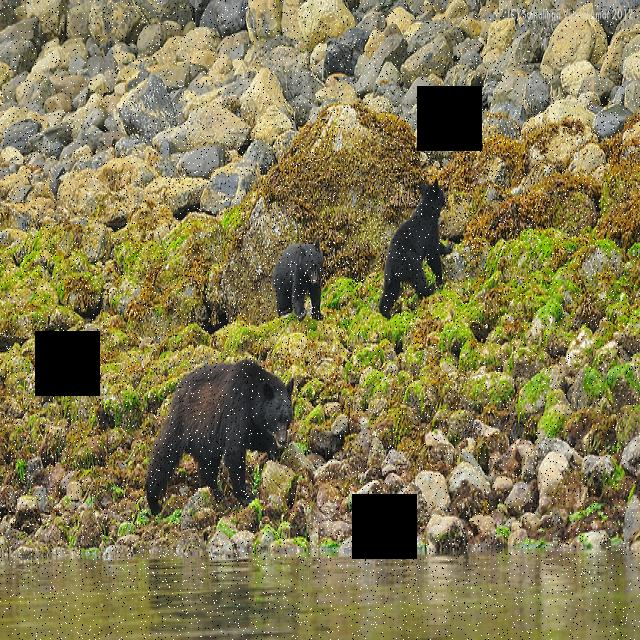Bear: (136, 353, 294, 492), (376, 172, 459, 314), (271, 242, 337, 326)
